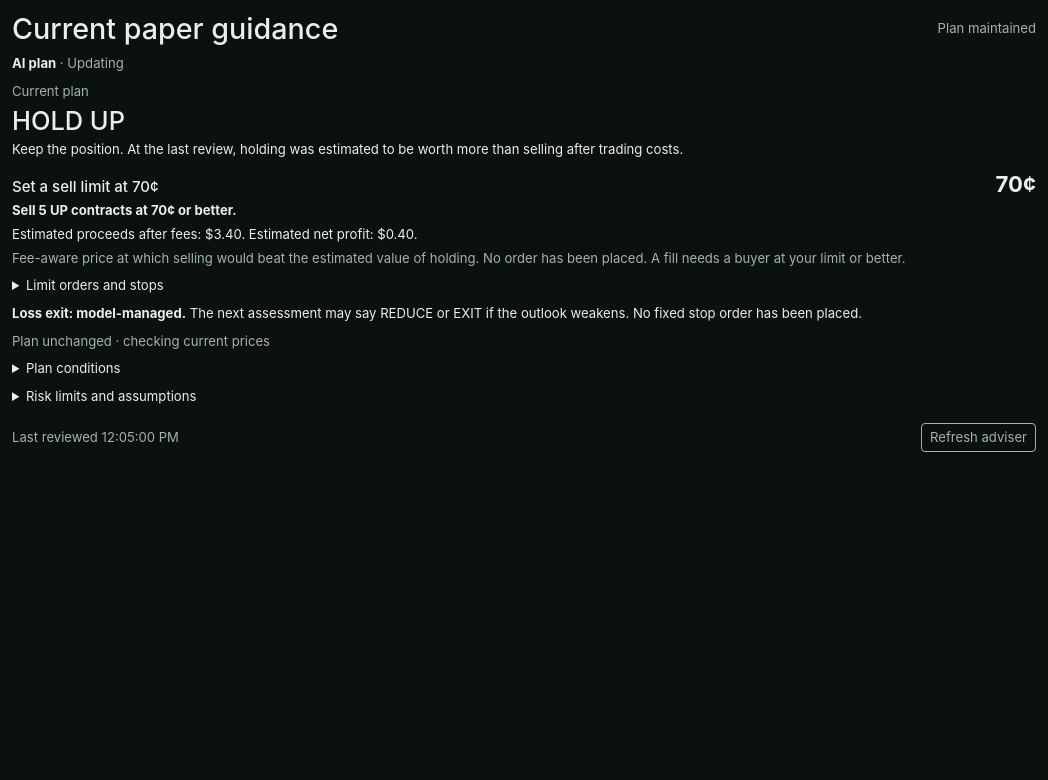
Scenario: saved AI commentary stays hidden while the active hold and application conditions remain
Click the heading "Plan conditions".
click(73, 368)  # box x1=26 y1=360 x2=120 y2=376
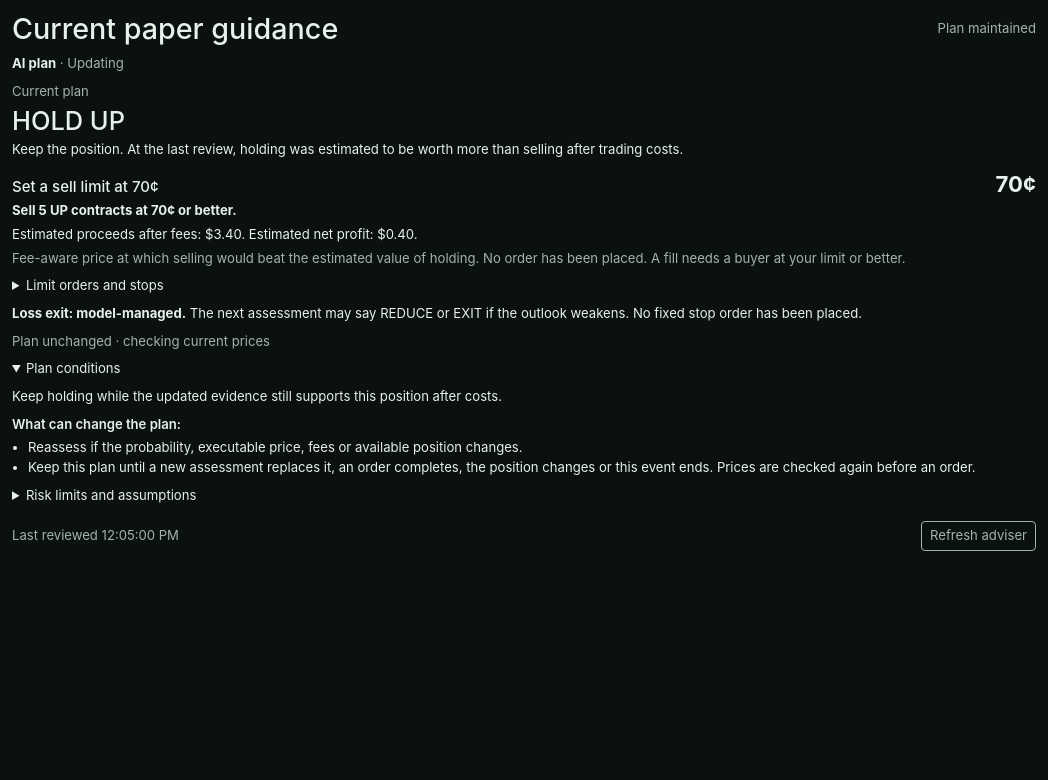
Expected: the heading "HOLD UP" is shown, x1=12 y1=105 x2=125 y2=136
Now the text "What can change the plan:" is shown, box x1=12 y1=416 x2=181 y2=432
Now the list item "probability, executable price, fees or available position changes" is shown, box x1=28 y1=439 x2=522 y2=455
